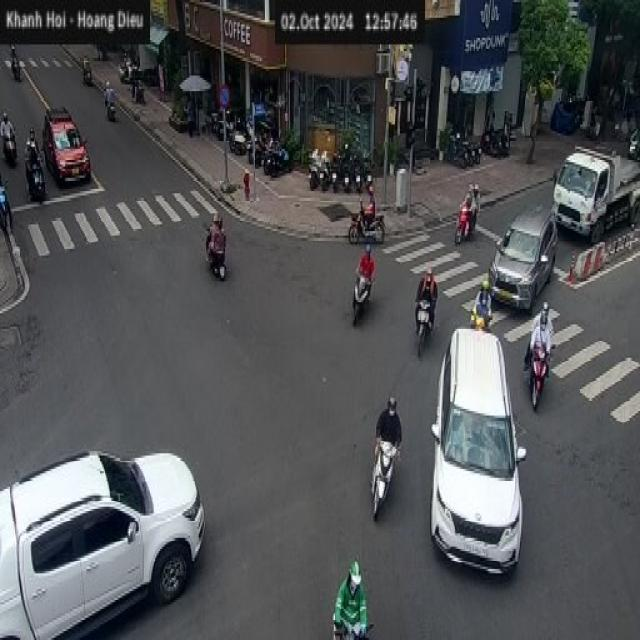car: (0, 449, 205, 638), (429, 324, 526, 576), (488, 200, 558, 313), (42, 104, 96, 195)
motorcycle: (370, 433, 400, 518), (524, 338, 550, 409), (347, 198, 385, 244), (351, 266, 374, 324), (414, 294, 435, 356), (24, 140, 45, 202), (204, 224, 226, 280), (331, 616, 374, 638), (454, 217, 483, 244), (0, 193, 17, 239), (464, 125, 483, 164), (229, 121, 256, 146), (0, 122, 16, 164), (360, 156, 376, 194), (264, 147, 287, 169), (249, 142, 272, 162), (490, 136, 510, 159), (341, 156, 353, 194), (331, 151, 342, 192), (352, 147, 362, 192), (308, 152, 321, 185), (9, 42, 20, 80), (316, 150, 328, 184), (452, 138, 466, 166), (130, 84, 150, 103), (117, 64, 132, 85), (460, 134, 472, 160), (81, 65, 95, 86), (106, 106, 118, 123)
person: (332, 558, 368, 638), (374, 393, 401, 478), (415, 265, 437, 331), (355, 242, 375, 300), (470, 278, 492, 329), (363, 186, 381, 228), (474, 184, 490, 230), (100, 78, 118, 114), (210, 204, 224, 250), (0, 104, 13, 146), (30, 134, 45, 170), (462, 190, 477, 220), (0, 182, 14, 212), (134, 64, 145, 100), (10, 38, 23, 68), (80, 49, 92, 75), (121, 54, 133, 74)
truck: (551, 142, 639, 242)
